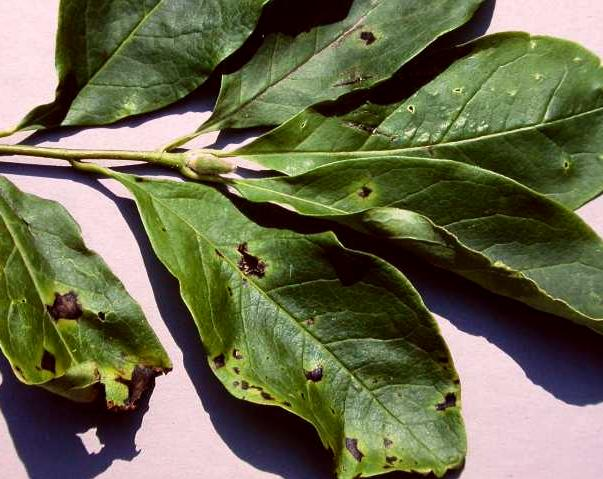Tomato leaf bacterial spot: (124, 165, 468, 479), (237, 161, 603, 372), (167, 0, 510, 145), (0, 170, 163, 435)
